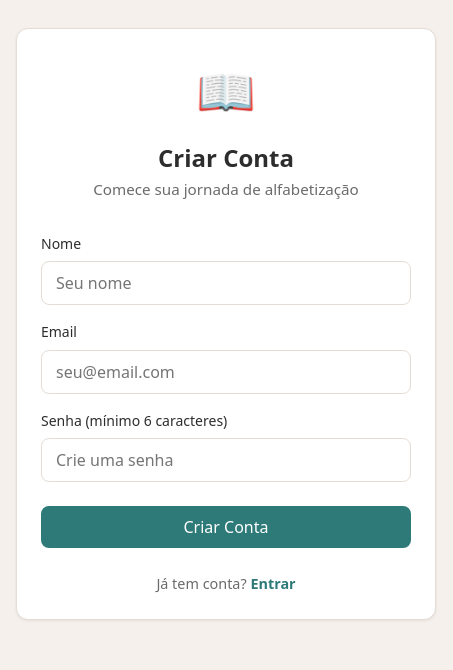
Test case: Register page › shows error on failed register
Type "Test" into the field with placeholder "Seu nome" at [226, 283], box [41,261,411,305]
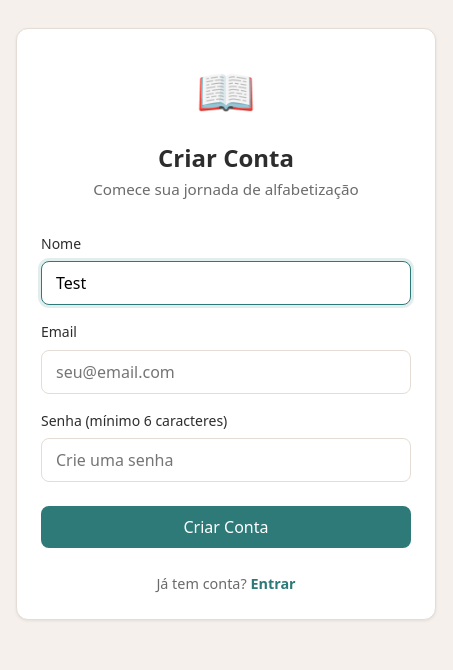
Type "existing@test.com" into the field with placeholder "seu@email.com" at [226, 372], box [41,350,411,394]
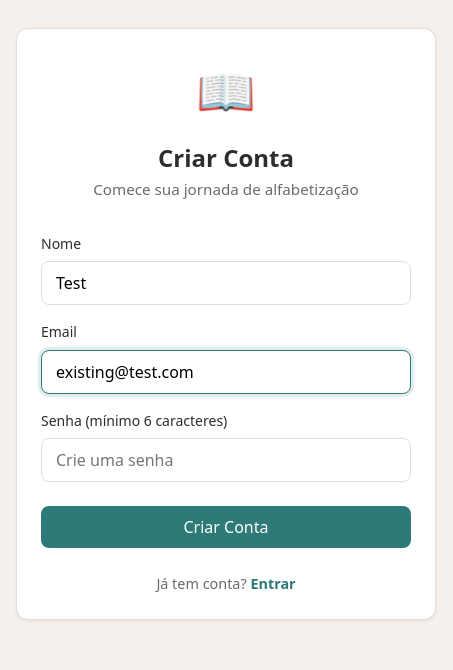
Type "123456" into the password field with placeholder "Crie uma senha" at [226, 460], box [41,438,411,482]
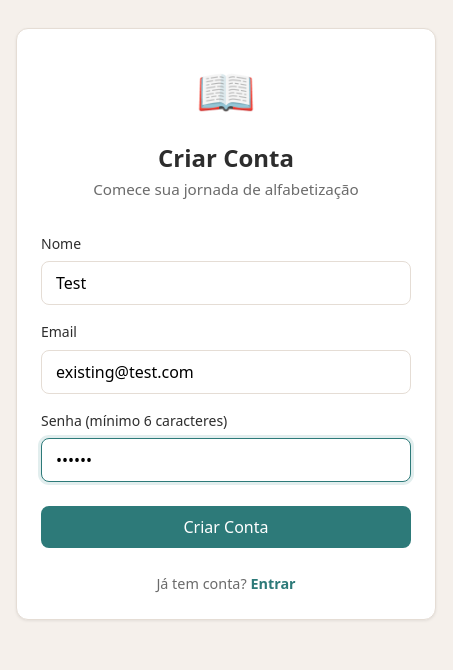
Click the button "Criar Conta" at [226, 527], box [41,506,411,548]
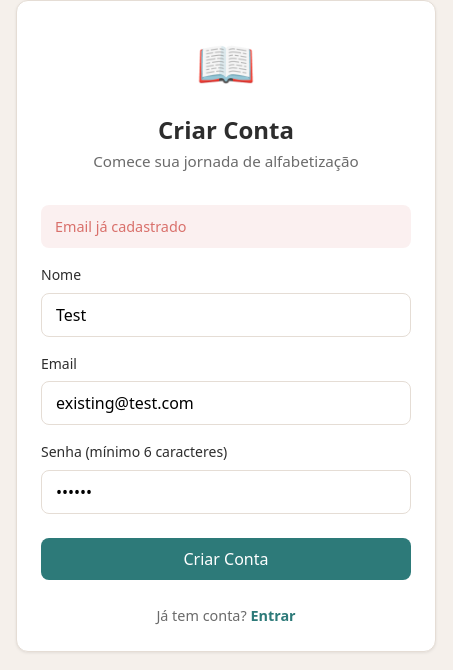
Result: the text "Email já cadastrado" is shown at [41,205,411,248]
